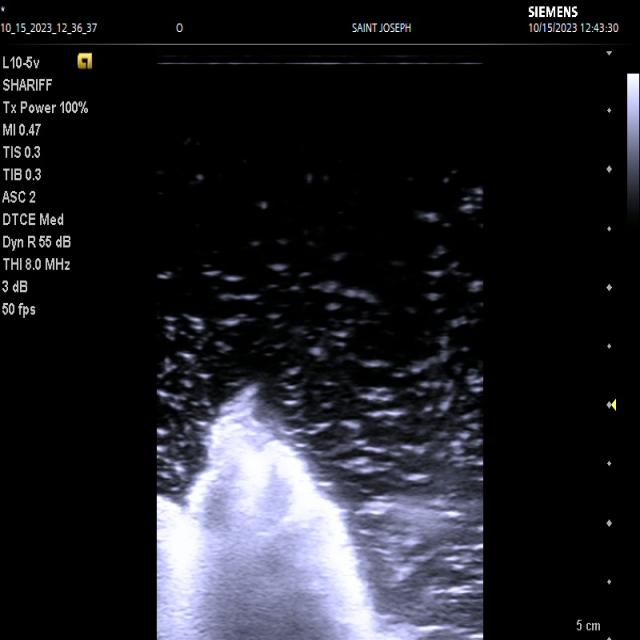tissue: (158, 383, 395, 640)
